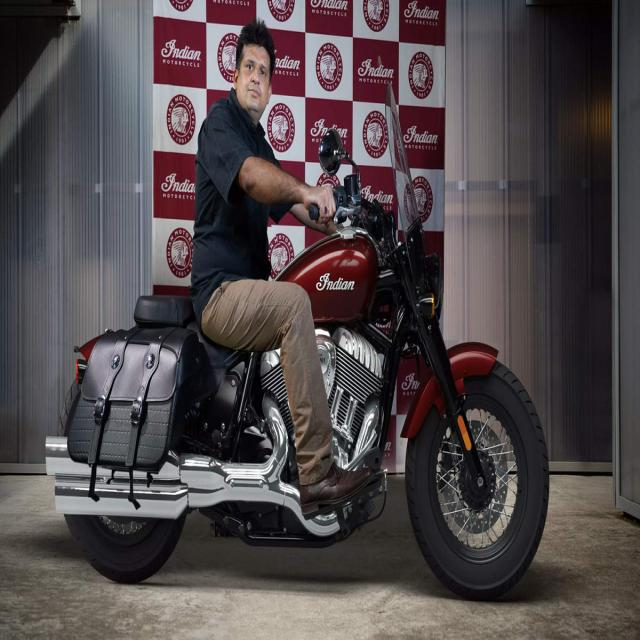motorcycle: (46, 18, 549, 599)
